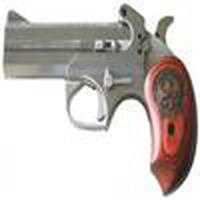gun: (3, 4, 200, 189)
